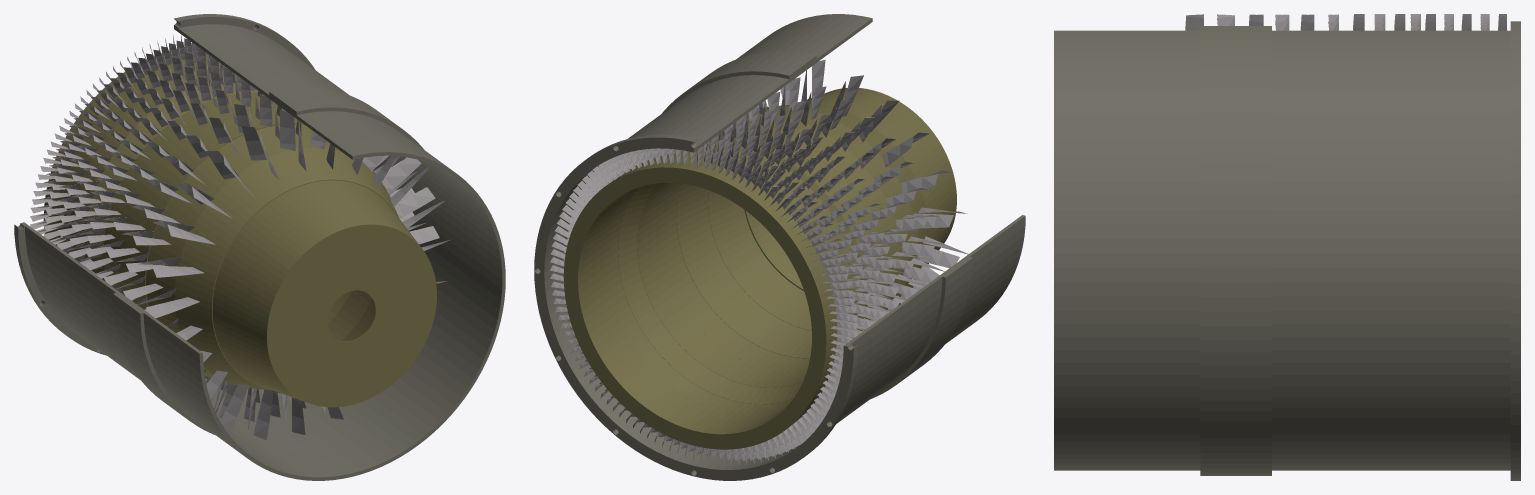
Rendered from compressor_ensamble_cut.glb.
The picture shows the model from 3 angles, left to right: view 1: azimuth 30°, elevation 25°; view 2: azimuth 150°, elevation 25°; view 3: azimuth 270°, elevation 25°; orthographic projection. The views are drawn at different scales.
Visible parts, largest first — view 1: Compressor_int, Compressor_ext_cut, compressor_alabes_stators; view 2: Compressor_int, Compressor_ext_cut, compressor_alabes_stators; view 3: Compressor_ext_cut, compressor_alabes_stators.
Part boxes in pixels (x1,y1,x2,y2): Compressor_int: [43, 48, 436, 407]; Compressor_ext_cut: [14, 14, 505, 480]; compressor_alabes_stators: [30, 34, 450, 439]; Compressor_int: [563, 88, 956, 449]; Compressor_ext_cut: [534, 14, 1025, 480]; compressor_alabes_stators: [550, 59, 968, 465]; Compressor_ext_cut: [1054, 21, 1520, 480]; compressor_alabes_stators: [1185, 14, 1506, 30].
Size of the model in its own units: 470 by 470 by 455.
